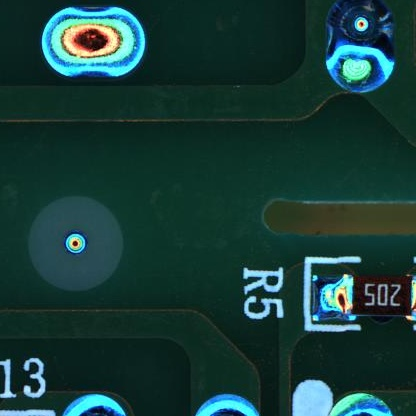spot: (42, 6, 146, 79), (326, 1, 396, 97), (60, 392, 128, 416), (329, 392, 394, 416), (193, 394, 263, 416), (63, 231, 89, 255)
